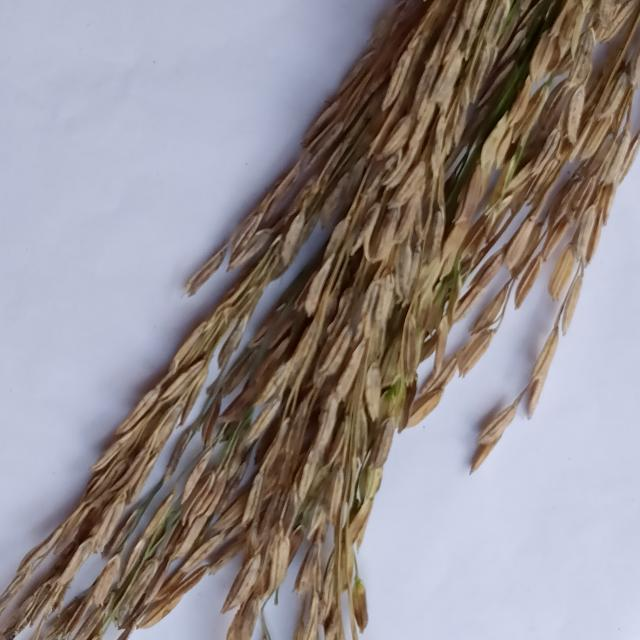Neck_Blast: (0, 0, 640, 640)
